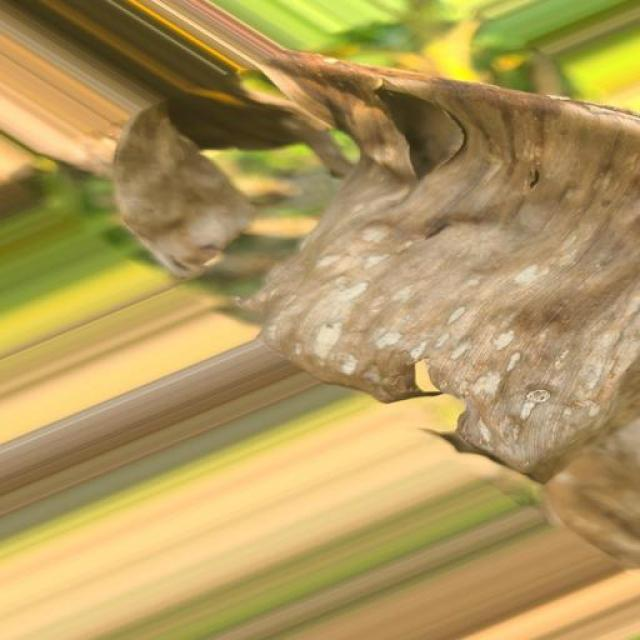Bract_mosaic_virus: (0, 0, 640, 584)
